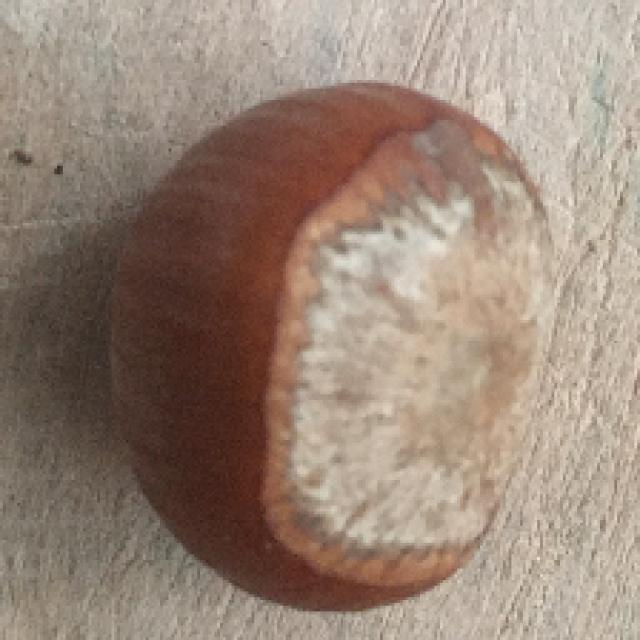qualityHazelnut: (96, 80, 566, 622)
